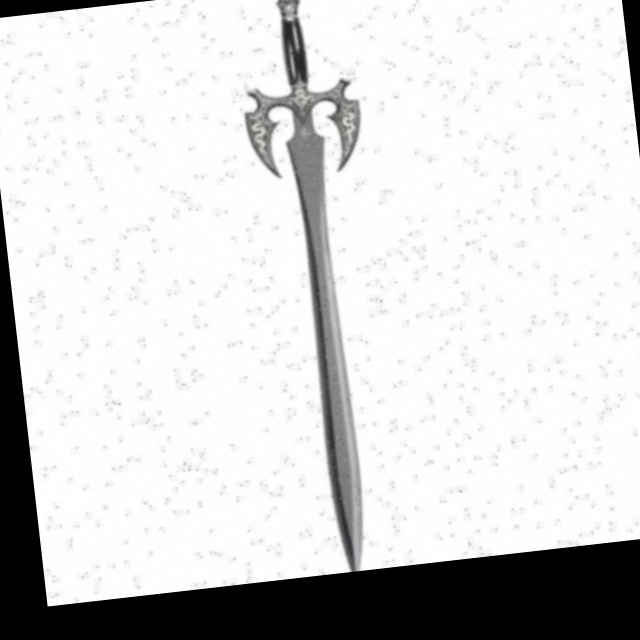Sharp-Object: (262, 3, 381, 573)
